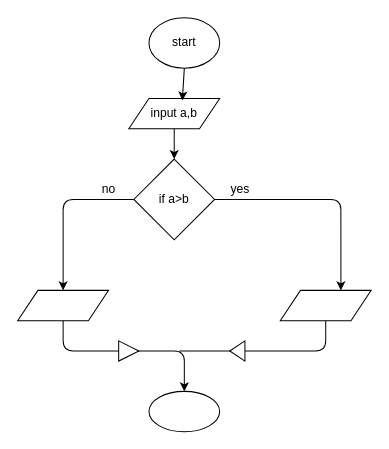
This 389x449 diagram has some shape labels left out. Here are the shapes that lost their labels. From the top down, the centre of each, then its label:
the point at 63,305: display b
the point at 325,305: display a
